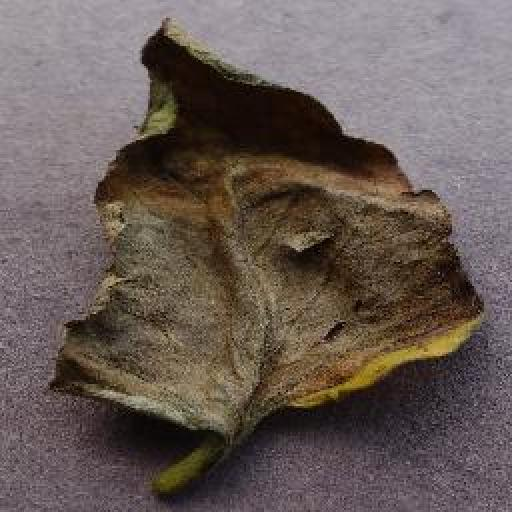disease_tomato: (49, 10, 492, 446)
